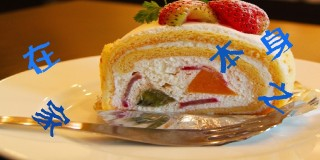之: (258, 79, 294, 116)
在: (21, 41, 62, 75)
家: (31, 97, 71, 136)
本: (210, 39, 245, 74)
身: (260, 26, 293, 61)
